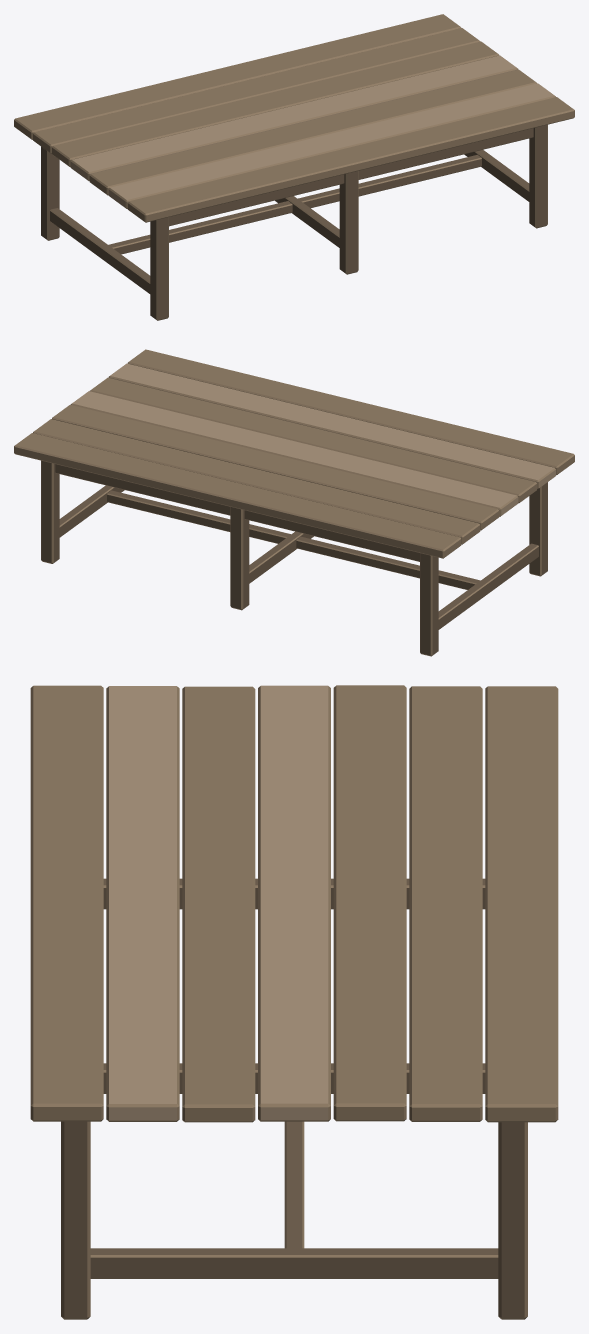
The model's file is table_big.glb.
3 views of the same model, one above another, from view 1: azimuth 30°, elevation 25°; view 2: azimuth 150°, elevation 25°; view 3: azimuth 270°, elevation 25° (orthographic). The views are drawn at different scales.
Parts seen in each view (by area): view 1: Table_Big; view 2: Table_Big; view 3: Table_Big.
Boxes of the visible parts, x1,y1,x2,y2 form: Table_Big: (14,14,574,320); Table_Big: (14,349,574,656); Table_Big: (30,685,558,1319).
Size of the model in its own units: 3 by 0.7839 by 1.59.
